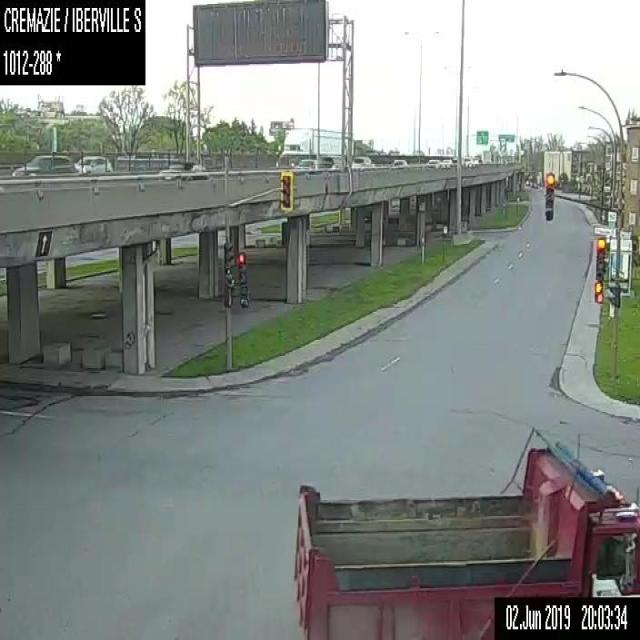vehicle: (289, 445, 639, 639), (492, 594, 639, 638), (276, 126, 354, 170), (11, 152, 74, 179), (158, 160, 206, 179), (74, 154, 112, 172), (294, 157, 325, 171), (352, 156, 374, 168), (392, 157, 407, 167), (481, 147, 490, 163), (427, 156, 440, 167), (439, 158, 452, 167), (462, 156, 471, 166), (471, 158, 479, 166), (530, 180, 536, 188), (526, 178, 532, 185)
